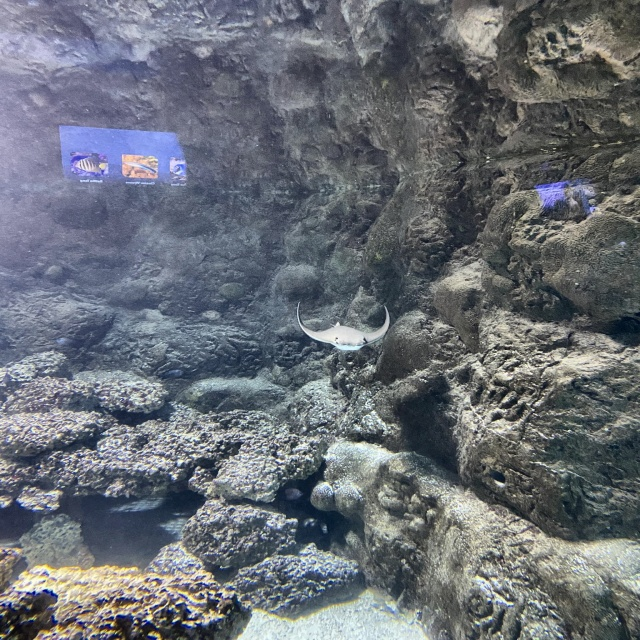stingray: (295, 303, 391, 351)
